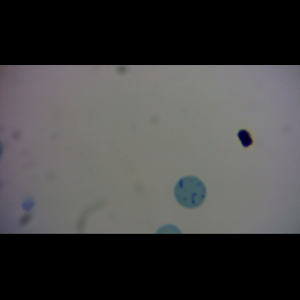aggregate reticulocyte: (173, 174, 208, 210)
